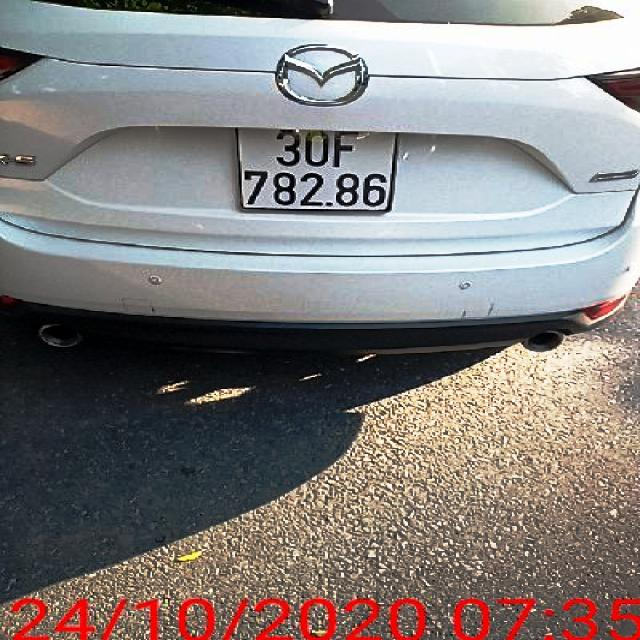license_plate: (239, 129, 401, 212)
